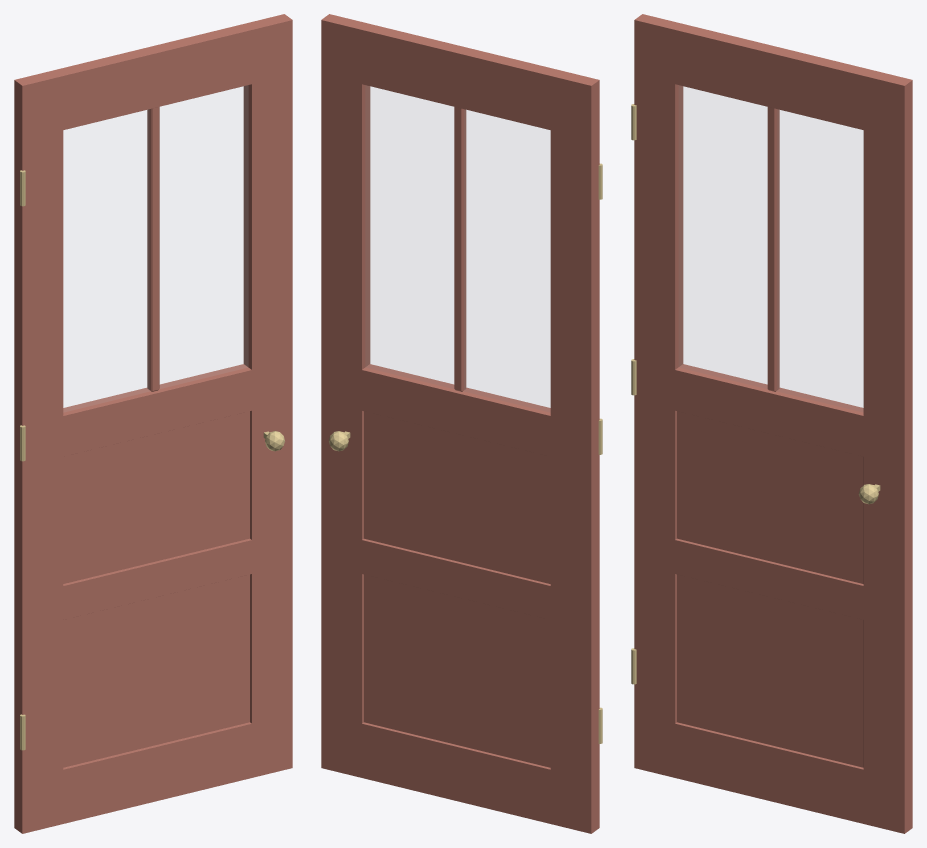
Rendered from door_leaf_back.glb.
3 views of the same model, side by side, from view 1: azimuth 30°, elevation 25°; view 2: azimuth 150°, elevation 25°; view 3: azimuth 330°, elevation 25° (orthographic).
Parts seen in each view (by area): view 1: door_leaf_back_door, door_leaf_back_glass, door_leaf_back_brass; view 2: door_leaf_back_door, door_leaf_back_glass, door_leaf_back_brass; view 3: door_leaf_back_door, door_leaf_back_glass, door_leaf_back_brass.
Part boxes in pixels (x1=…): door_leaf_back_door: x1=14, y1=14, x2=292, y2=833; door_leaf_back_glass: x1=64, y1=86, x2=247, y2=411; door_leaf_back_brass: x1=20, y1=170, x2=284, y2=750; door_leaf_back_door: x1=321, y1=14, x2=599, y2=833; door_leaf_back_glass: x1=366, y1=86, x2=549, y2=411; door_leaf_back_brass: x1=328, y1=163, x2=602, y2=743; door_leaf_back_door: x1=634, y1=14, x2=912, y2=833; door_leaf_back_glass: x1=679, y1=86, x2=862, y2=411; door_leaf_back_brass: x1=631, y1=104, x2=880, y2=684.
Size of the model in its own units: 0.868 by 2.28 by 0.201.
